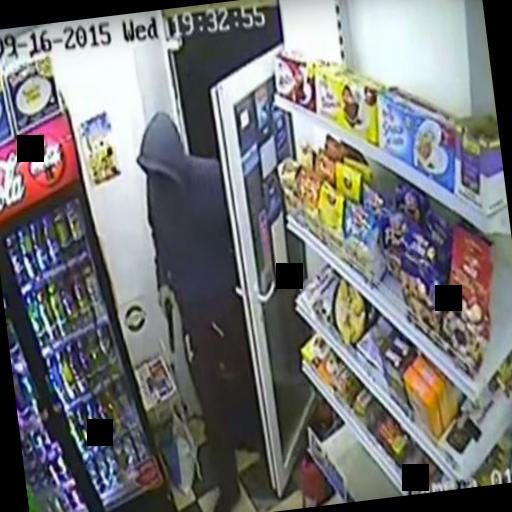Handgun: (156, 290, 178, 351)
